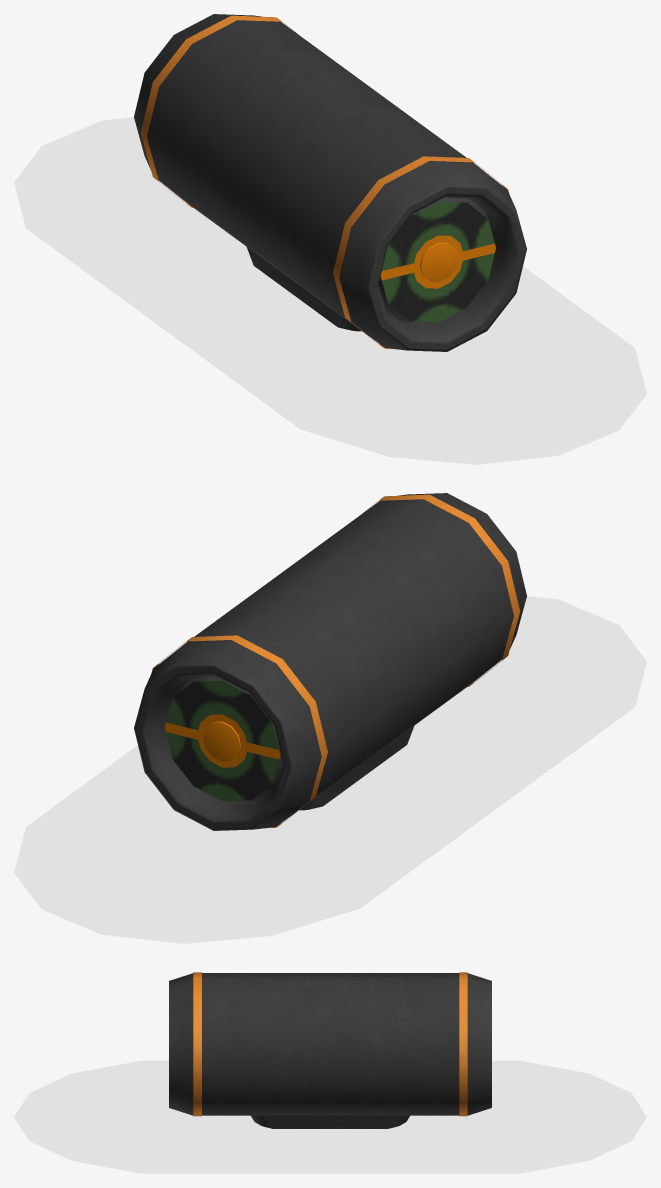
Rendered from a_sch_2_clubroom08_speaker01.gltf.
3 renders of one model, top to bottom at view 1: azimuth 30°, elevation 25°; view 2: azimuth 150°, elevation 25°; view 3: azimuth 270°, elevation 25°, orthographic. The views are drawn at different scales.
Parts seen in each view (by area): view 1: um_a_sch_2_clubroom08_speaker01_model_a_sch_2_clubroom08_spe (×2); view 2: um_a_sch_2_clubroom08_speaker01_model_a_sch_2_clubroom08_spe (×2); view 3: um_a_sch_2_clubroom08_speaker01_model_a_sch_2_clubroom08_spe (×2).
Boxes of the visible parts, x1,y1,x2,y2 form: um_a_sch_2_clubroom08_speaker01_model_a_sch_2_clubroom08_spe (×2): [14, 14, 646, 464]; um_a_sch_2_clubroom08_speaker01_model_a_sch_2_clubroom08_spe (×2): [14, 493, 646, 943]; um_a_sch_2_clubroom08_speaker01_model_a_sch_2_clubroom08_spe (×2): [14, 972, 646, 1173].
Size of the model in its own units: 0.5178 by 0.2999 by 1.23.
Materials: 2 (1 with a texture image).
